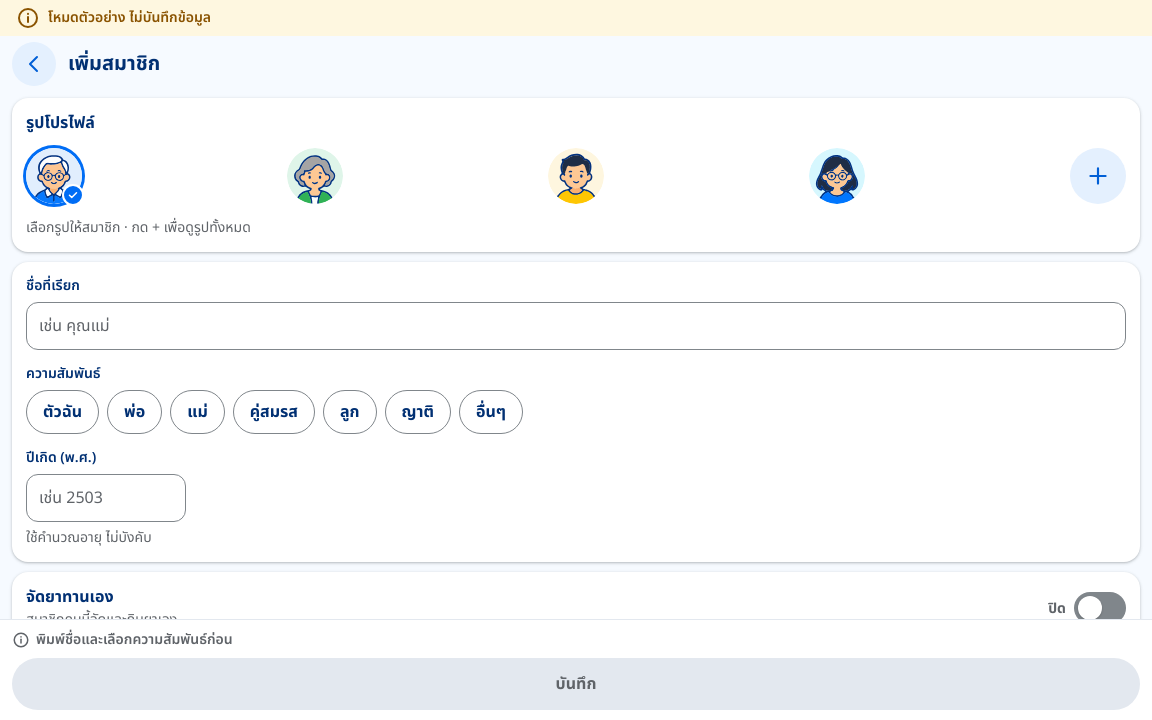
Test: birth year › keeps digits only, at most 4
In the field labelled "ปีเกิด (พ.ศ.)": (106, 498) x1=26 y1=474 x2=186 y2=522, type "25a0-3x9"
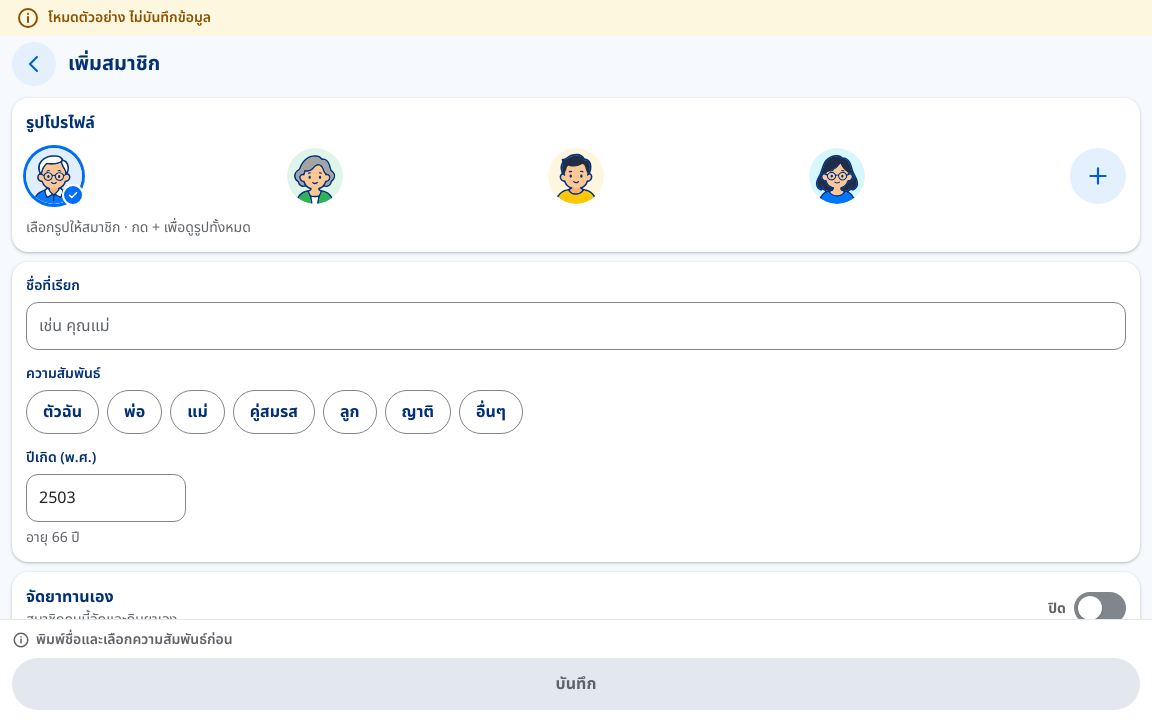
Result: the field labelled "ปีเกิด (พ.ศ.)" holds "2503" at x1=26 y1=474 x2=186 y2=522
